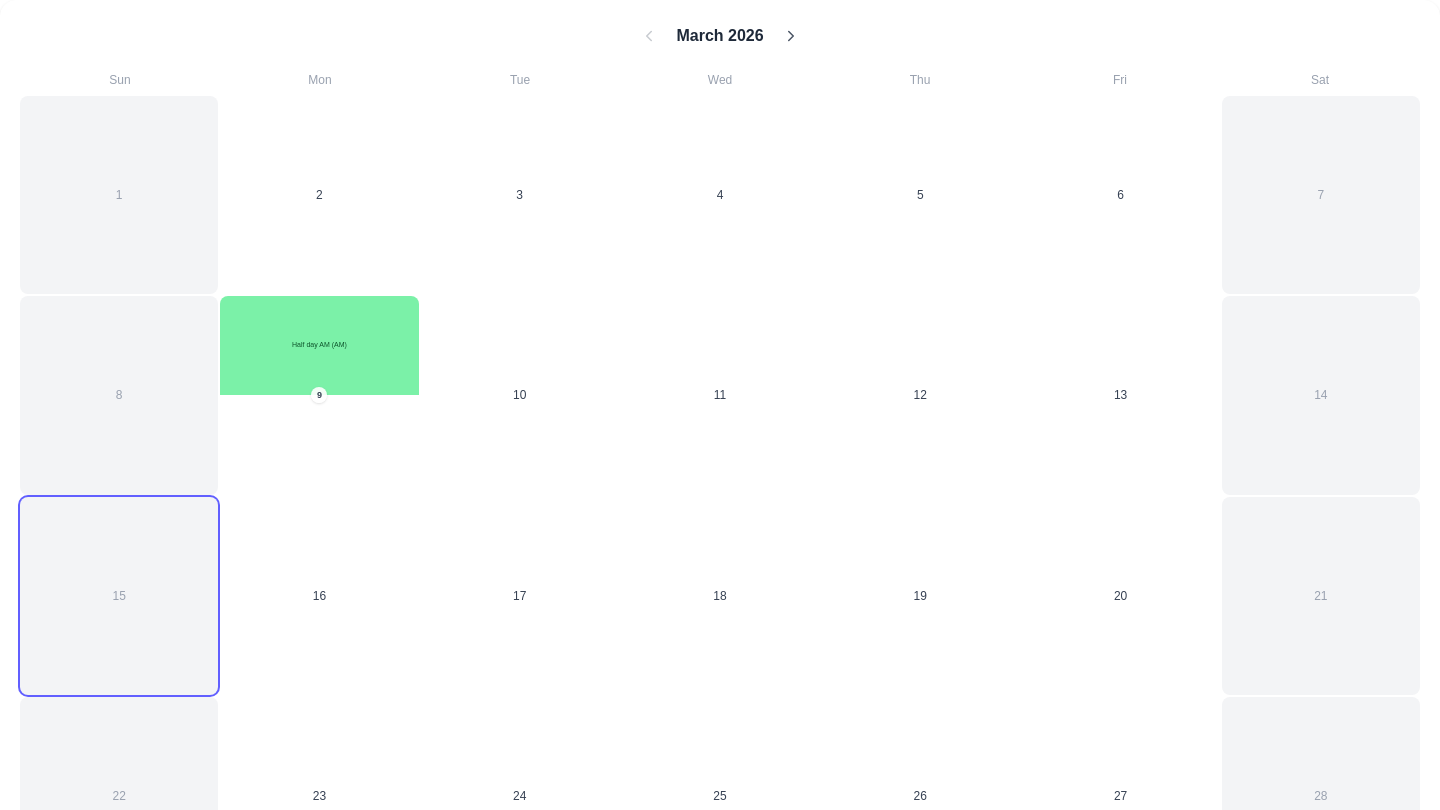
Test: CalendarView — half-day popover shows duration label › shows 'Half day (AM)' for an AM half-day entry in the popover
Click the text "Half day AM (AM)" at (319, 345), box left=292, top=342, right=347, bottom=348
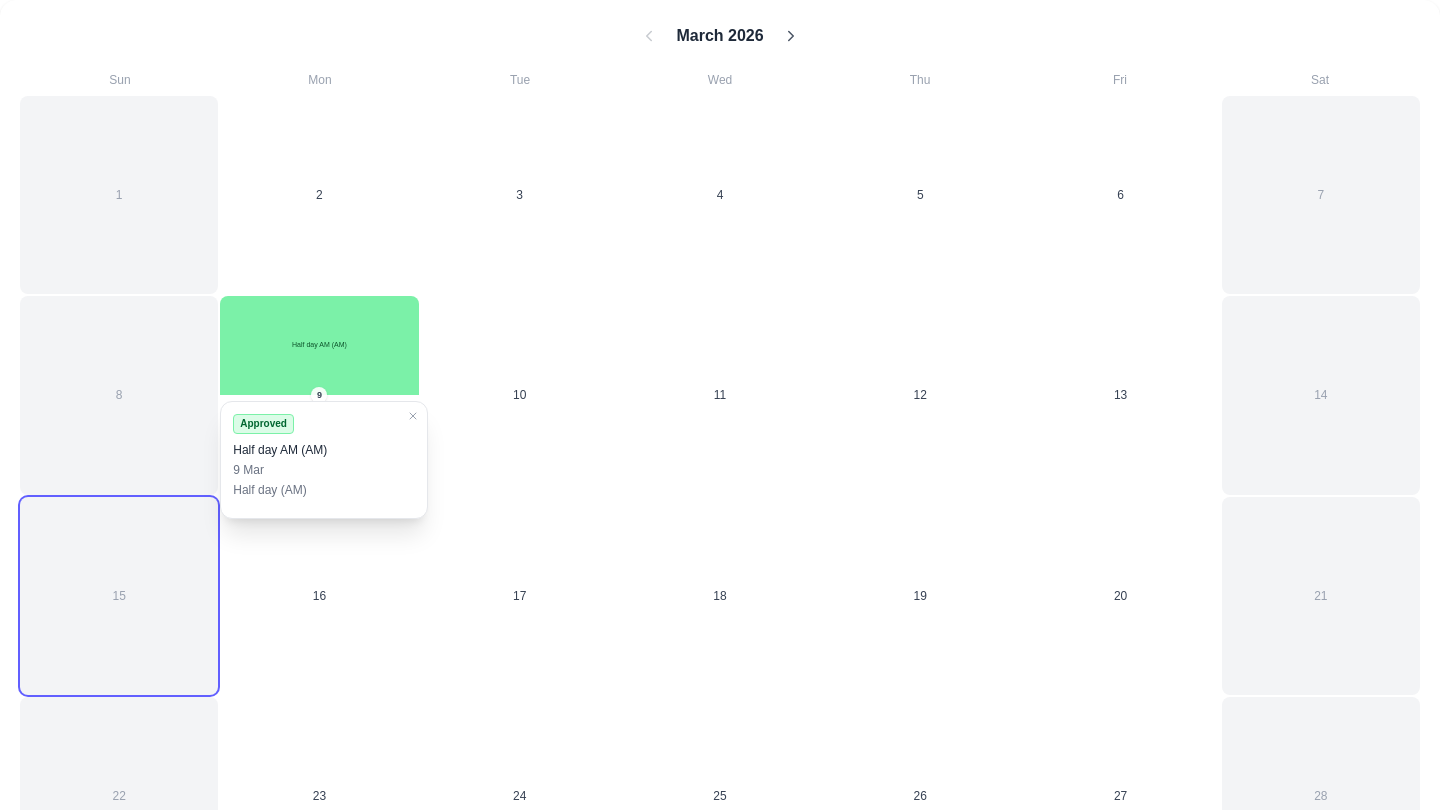
Result: the tooltip "Approved Half day AM (AM) 9 Mar Half day (AM)" is shown at left=220, top=401, right=428, bottom=519
Result: the text "Half day (AM)" is shown at left=233, top=483, right=307, bottom=497
